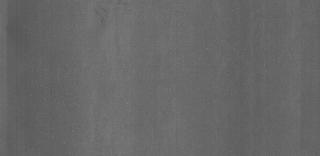water spot: (93, 6, 127, 26)
